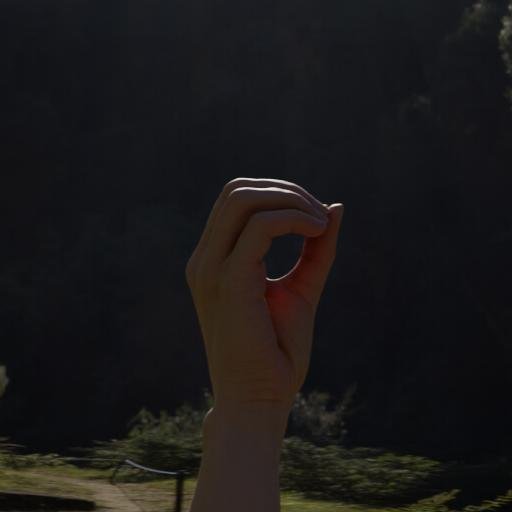O: (179, 170, 346, 400)
